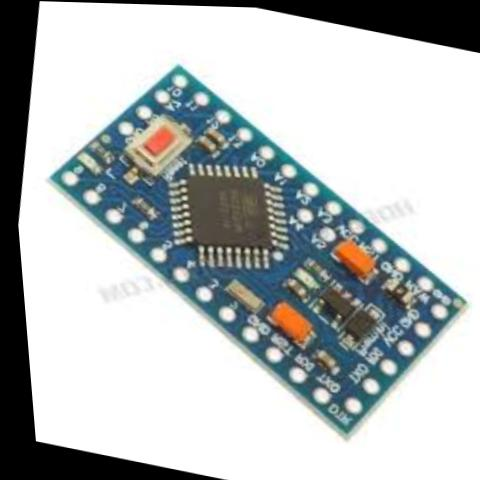Arduino-Pro-Mini: (2, 38, 480, 457)
